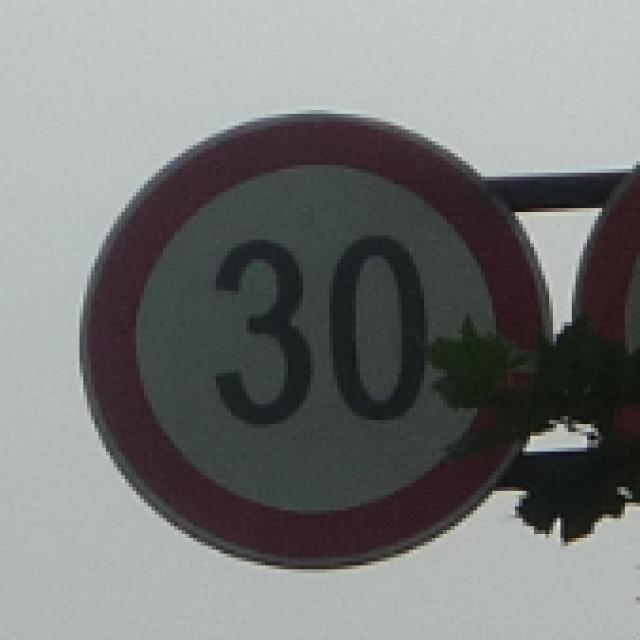speed limit 30: (76, 109, 550, 574)
